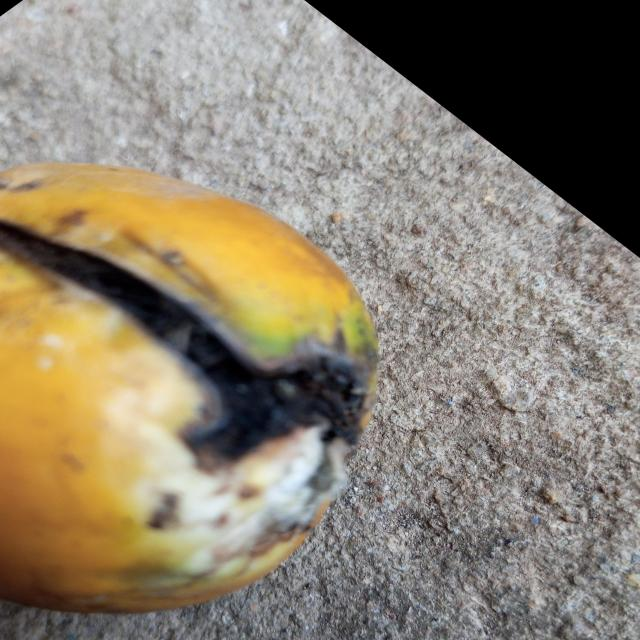damaged: (0, 164, 378, 612)
